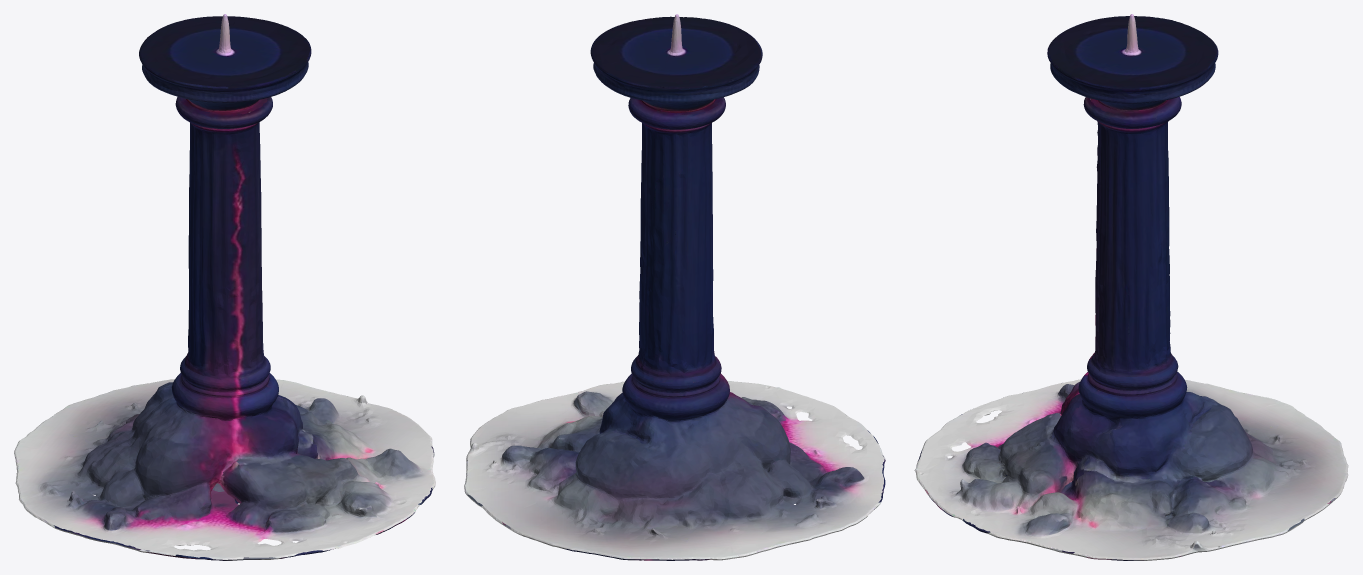
File: weathered-monolith-pillar-generated-2026-04-19T23-33-28-476Z.medium.glb
3 renders of one model, left to right at view 1: azimuth 30°, elevation 25°; view 2: azimuth 150°, elevation 25°; view 3: azimuth 270°, elevation 25°, orthographic.
Visible parts, largest first — view 1: temp_mesh.ply; view 2: temp_mesh.ply; view 3: temp_mesh.ply.
Part boxes in pixels (bbox=[...]): temp_mesh.ply: bbox=[14, 14, 435, 560]; temp_mesh.ply: bbox=[464, 14, 885, 560]; temp_mesh.ply: bbox=[914, 14, 1348, 560].
Bounding box in the file's own units: 1.73 × 1.97 × 1.71.
1 material, 1 textured.
